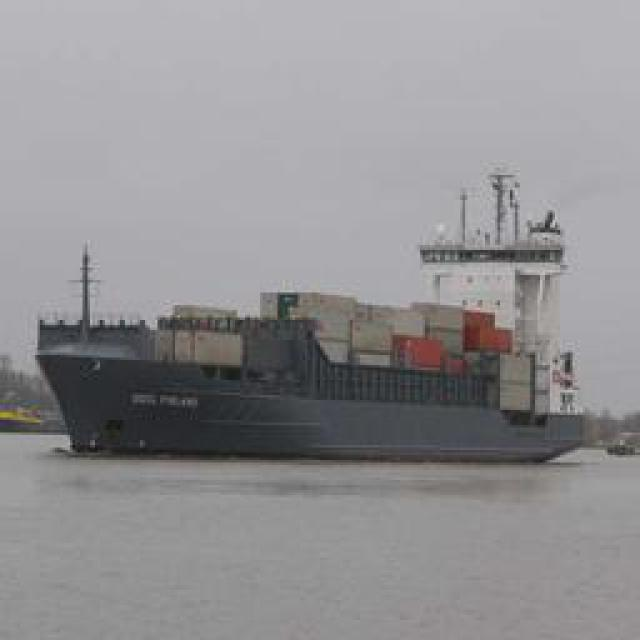Ship: (33, 240, 591, 458)
